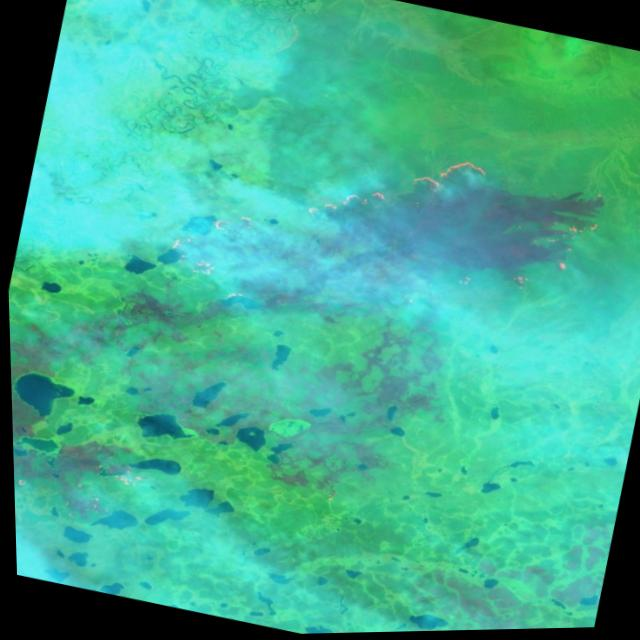fire: (126, 86, 619, 395), (10, 412, 166, 554)
